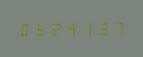five: (32, 20, 46, 37)
four: (62, 20, 76, 36)
one: (77, 19, 91, 36)
seven: (107, 19, 121, 36)
three: (92, 19, 106, 36)
two: (47, 20, 61, 37)
zero: (17, 20, 31, 37)
